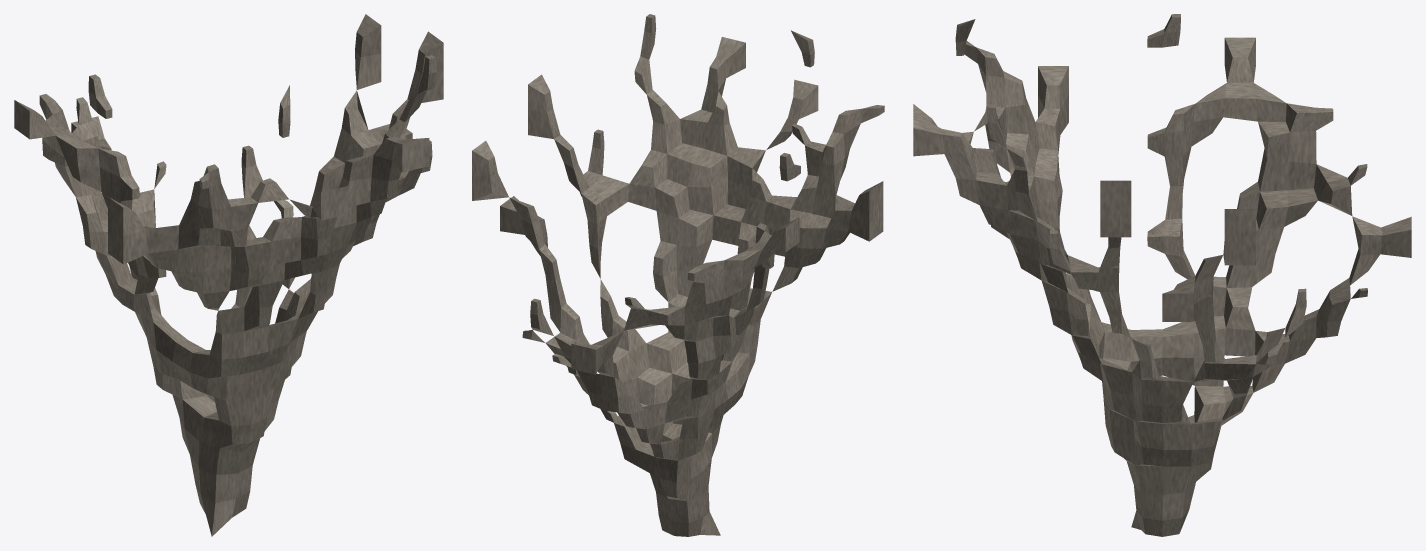
The model's file is shrub_dead.glb.
The picture shows the model from 3 angles, left to right: view 1: azimuth 30°, elevation 25°; view 2: azimuth 150°, elevation 25°; view 3: azimuth 270°, elevation 25°; orthographic projection. The views are drawn at different scales.
Parts seen in each view (by area): view 1: wilds_shrub_dead; view 2: wilds_shrub_dead; view 3: wilds_shrub_dead.
Boxes of the visible parts, <box> form: wilds_shrub_dead: <box>14,14,443,536</box>; wilds_shrub_dead: <box>472,14,884,536</box>; wilds_shrub_dead: <box>913,14,1411,536</box>.
Size of the model in its own units: 0.8125 by 1.12 by 1.
1 material, 1 textured.
